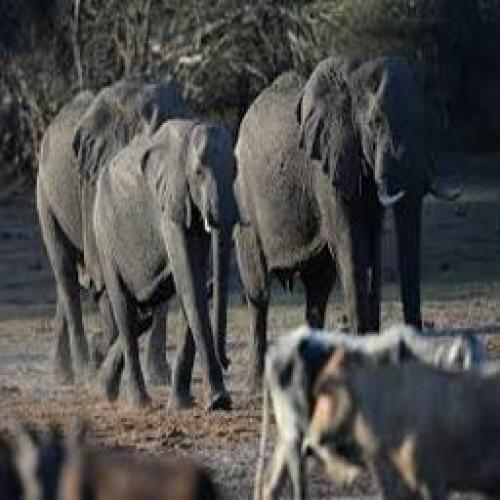african_elephant-endangered: (227, 53, 464, 385), (88, 117, 258, 416), (34, 81, 184, 385)
